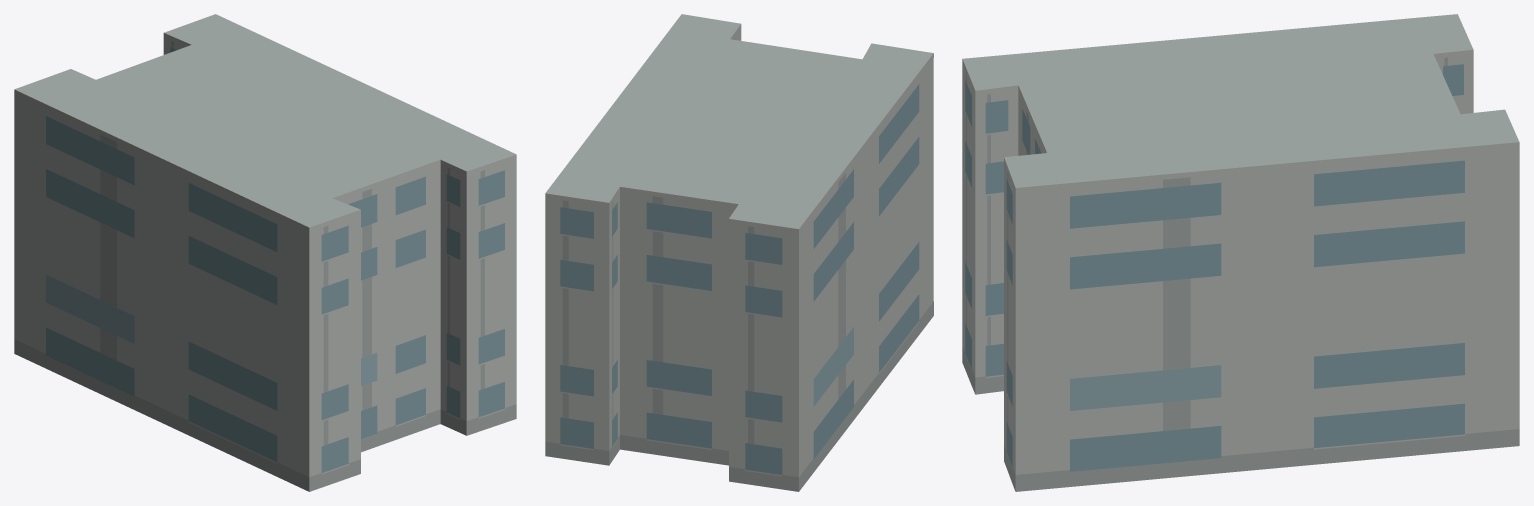
The model's file is survey-upis-33008016.glb.
3 renders of one model, left to right at view 1: azimuth 30°, elevation 25°; view 2: azimuth 150°, elevation 25°; view 3: azimuth 270°, elevation 25°, orthographic. The views are drawn at different scales.
Visible parts, largest first — view 1: survey-upis-33008016.tmp; view 2: survey-upis-33008016.tmp; view 3: survey-upis-33008016.tmp.
Boxes of the visible parts, x1,y1,x2,y2 form: survey-upis-33008016.tmp: [14, 14, 516, 491]; survey-upis-33008016.tmp: [545, 14, 933, 491]; survey-upis-33008016.tmp: [962, 14, 1519, 491].
Size of the model in its own units: 17.45 by 14.2 by 23.6.
